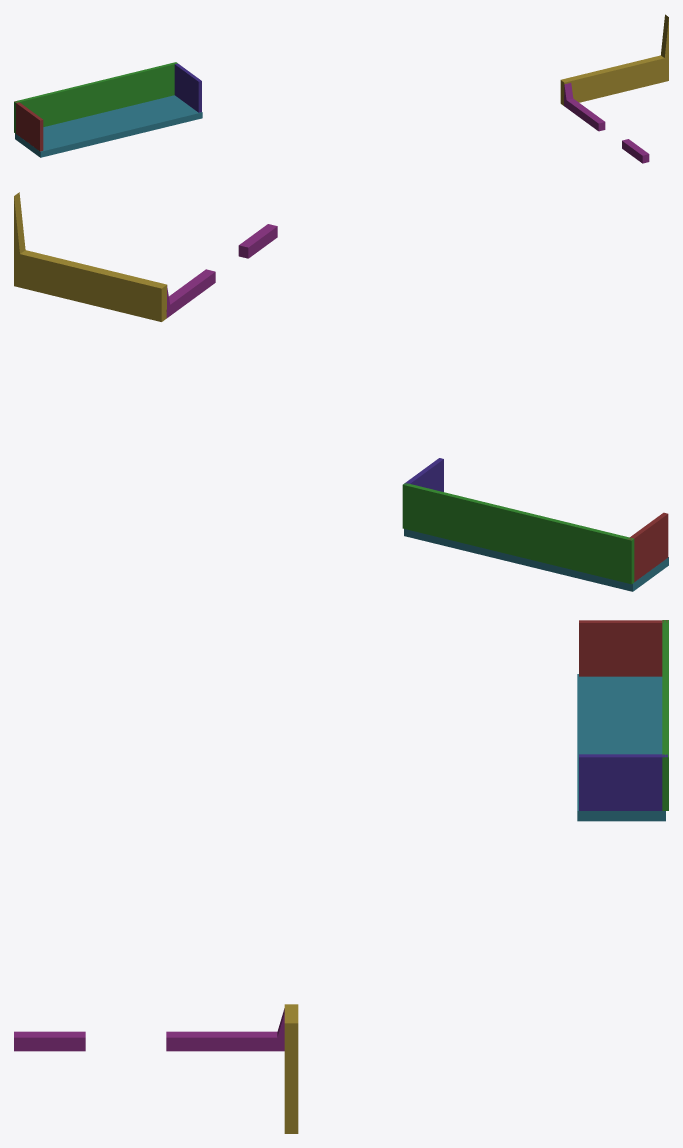
Rendered from loka2ostatki.FBX.
3 views of the same model, one above another, from view 1: azimuth 30°, elevation 25°; view 2: azimuth 150°, elevation 25°; view 3: azimuth 270°, elevation 25° (orthographic). The views are drawn at different scales.
Parts seen in each view (by area): view 1: Box039, Box038, Box059, Box058, Box041, Box040; view 2: Box039, Box059, Box038, Box058, Box041, Box040; view 3: Box038, Box040, Box041, Box058, Box059, Box039.
Part boxes in pixels (<box>): Box039: <box>14,62,177,133</box>; Box038: <box>15,95,202,157</box>; Box059: <box>560,14,668,105</box>; Box058: <box>564,83,649,163</box>; Box041: <box>14,101,43,151</box>; Box040: <box>174,63,201,112</box>; Box039: <box>402,483,634,584</box>; Box059: <box>14,192,167,321</box>; Box038: <box>404,529,668,591</box>; Box058: <box>166,224,277,318</box>; Box041: <box>627,512,668,581</box>; Box040: <box>403,458,443,491</box>; Box038: <box>577,674,665,821</box>; Box040: <box>579,754,667,810</box>; Box041: <box>579,620,667,676</box>; Box058: <box>14,1008,284,1051</box>; Box059: <box>284,1004,298,1133</box>; Box039: <box>662,620,668,810</box>.
Size of the model in its own units: 240 by 29.4 by 144.
